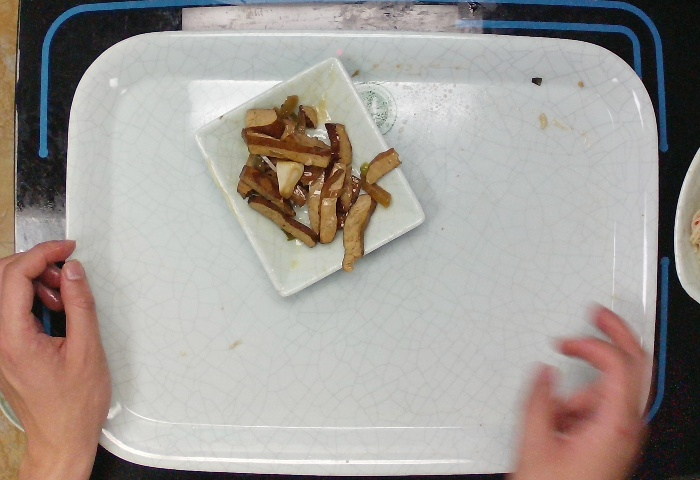WCQzf-Ru_Ci_Si_Fang_Die: (187, 47, 434, 304)
